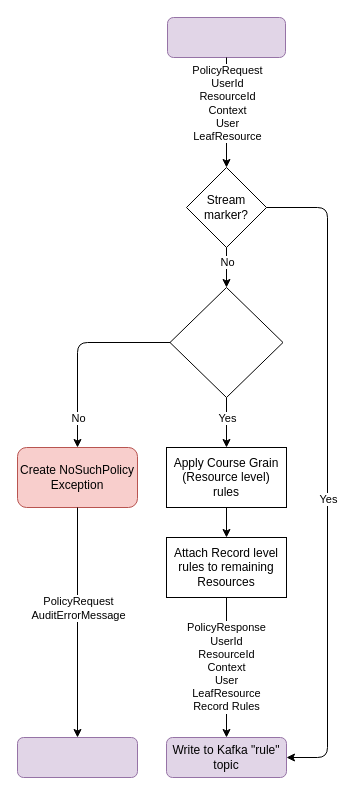
The diagram is 354 pixels wide and 795 high, and some of its shapes have lost their labels. The centre of each missing label's shape, as x and y in pixels:
Are there rules for this resource?: (226,342)
Read from Kafka "resource" topic: (226,37)
Write to Kafka"error" topic: (77,757)
